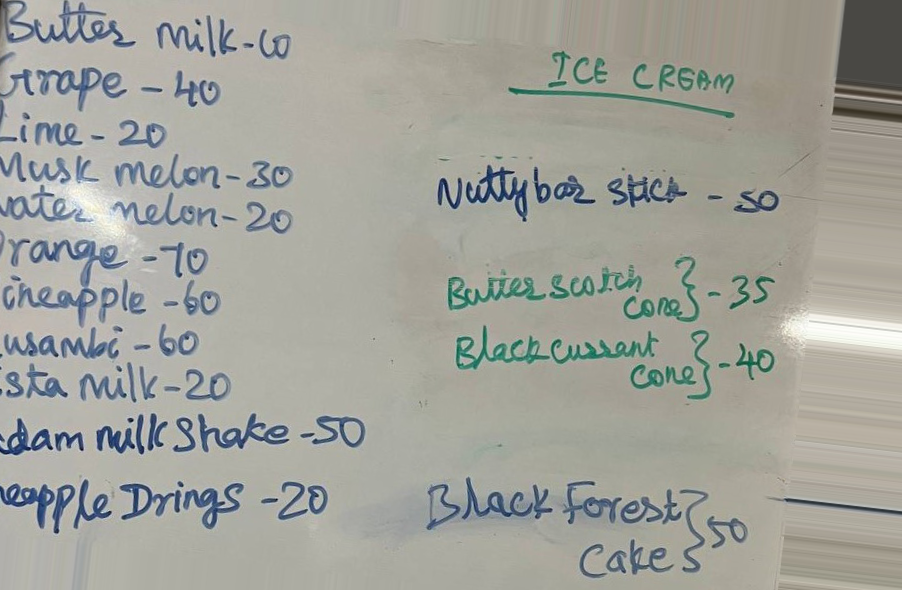black current cone - 40: (454, 327, 778, 404)
black forest cake - 50: (421, 471, 752, 580)
butter milk - 10: (4, 1, 303, 58)
butterscotch cone - 35: (443, 255, 775, 324)
grape - 40: (1, 52, 225, 112)
lime - 20: (1, 101, 171, 154)
musk melon - 30: (1, 149, 301, 193)
nutty bar - 30: (435, 159, 782, 218)
orange - 70: (1, 229, 211, 279)
water melon - 20: (1, 186, 296, 238)
